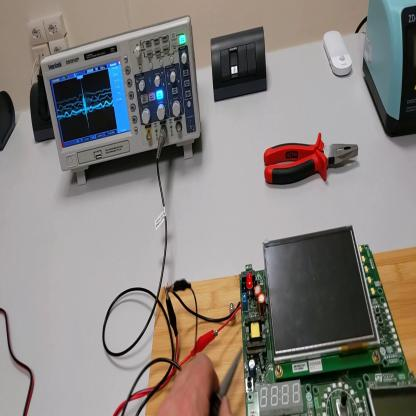hand: (158, 361, 234, 416)
low voltage board: (172, 226, 416, 416)
oscilloscope: (39, 15, 203, 186)
oscilloscope probe tip: (213, 346, 244, 415)
pliers: (264, 133, 358, 189)
socket: (29, 85, 56, 142), (1, 91, 18, 154)
welder station: (362, 3, 416, 139)
working area: (147, 246, 416, 416)
